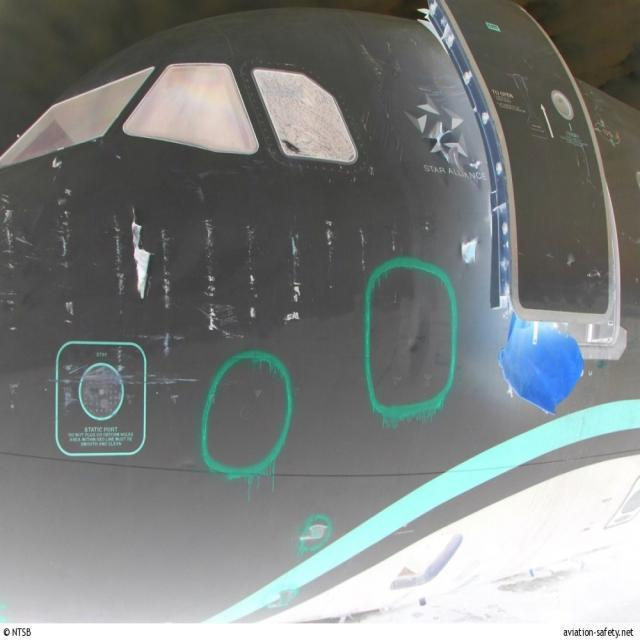crack: (121, 202, 162, 301)
